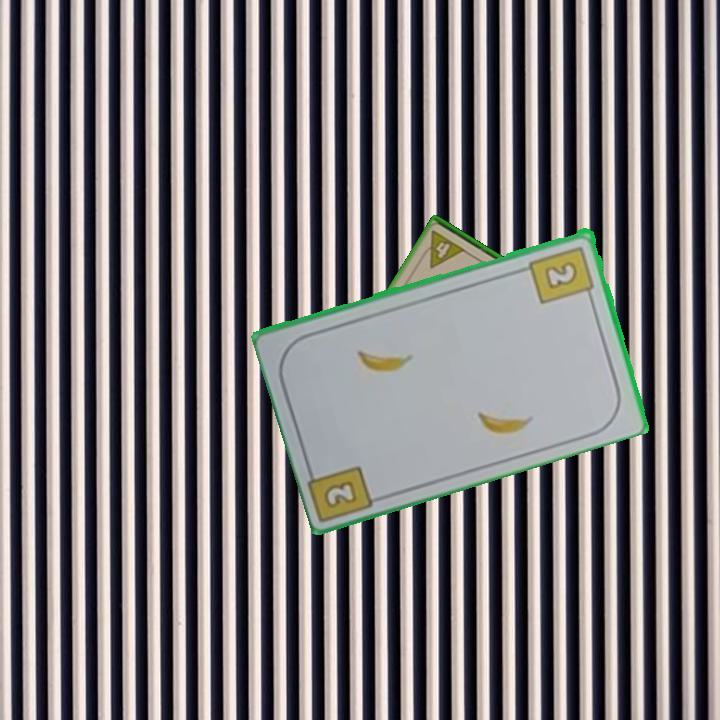2b: (526, 242, 598, 307), (320, 476, 361, 511)
4p: (416, 227, 468, 271)
